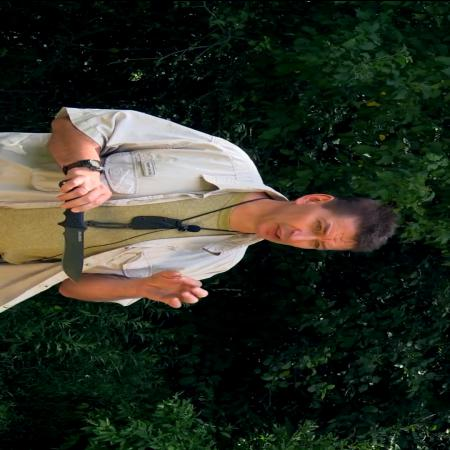long weapon: (58, 176, 118, 284)
